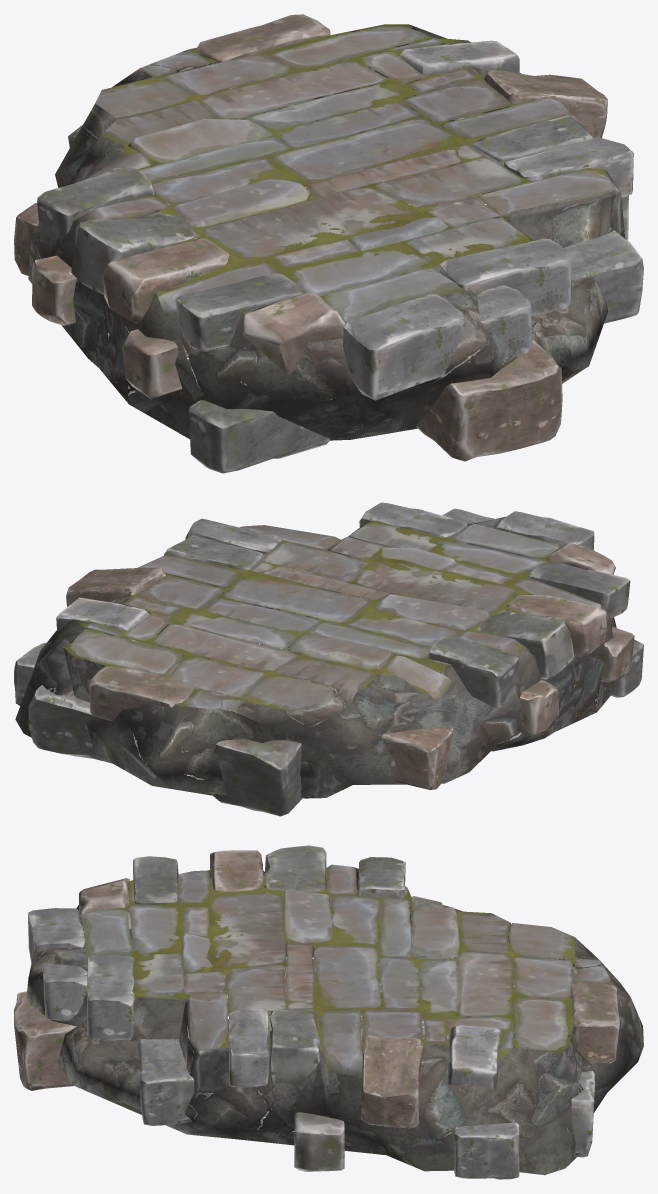
The picture shows the model from 3 angles, top to bottom: view 1: azimuth 30°, elevation 25°; view 2: azimuth 150°, elevation 25°; view 3: azimuth 270°, elevation 25°; orthographic projection. The views are drawn at different scales.
Visible parts, largest first — view 1: SM_River_Bridge_Piece_01_LOD0; view 2: SM_River_Bridge_Piece_01_LOD0; view 3: SM_River_Bridge_Piece_01_LOD0.
Boxes of the visible parts, box(x1,y1,x2,y2) form: SM_River_Bridge_Piece_01_LOD0: box(14, 14, 643, 473); SM_River_Bridge_Piece_01_LOD0: box(14, 502, 643, 816); SM_River_Bridge_Piece_01_LOD0: box(14, 845, 643, 1179).
Size of the model in its own units: 3.35 by 0.8687 by 3.81.
Materials: 3 (3 with a texture image).
